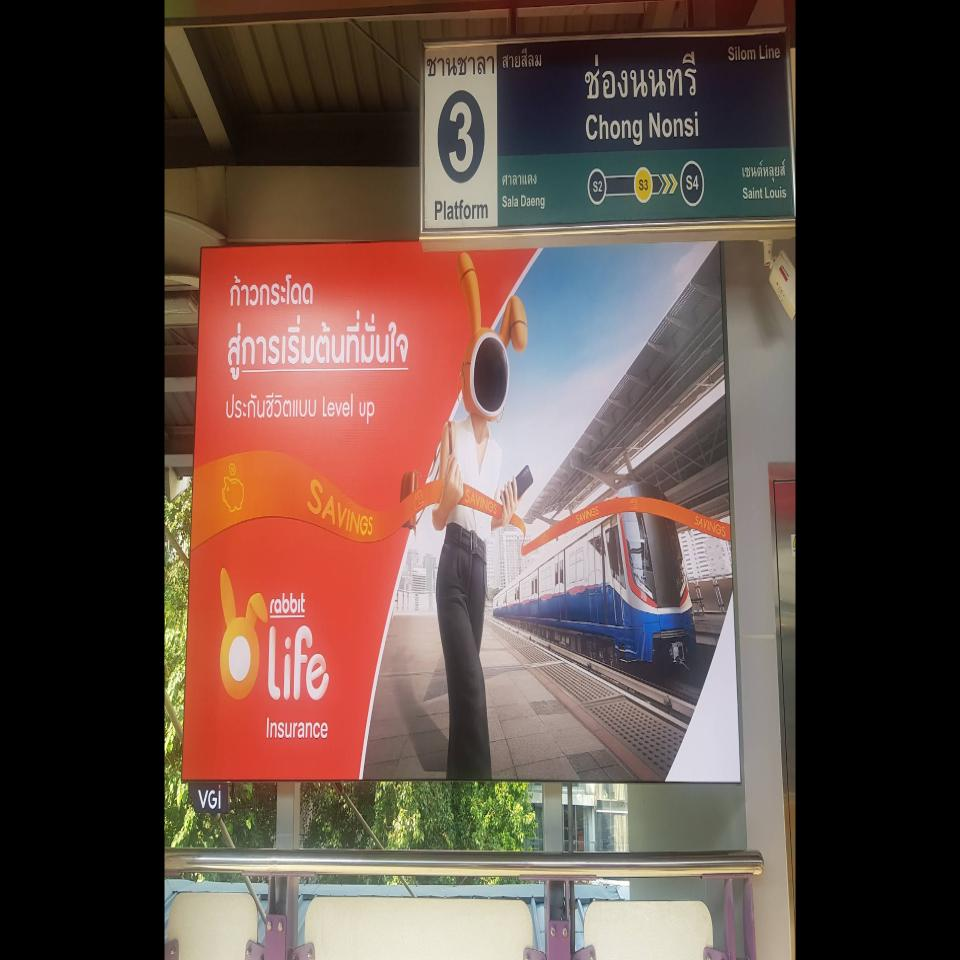Chong Nonsi: (583, 30, 705, 238)
